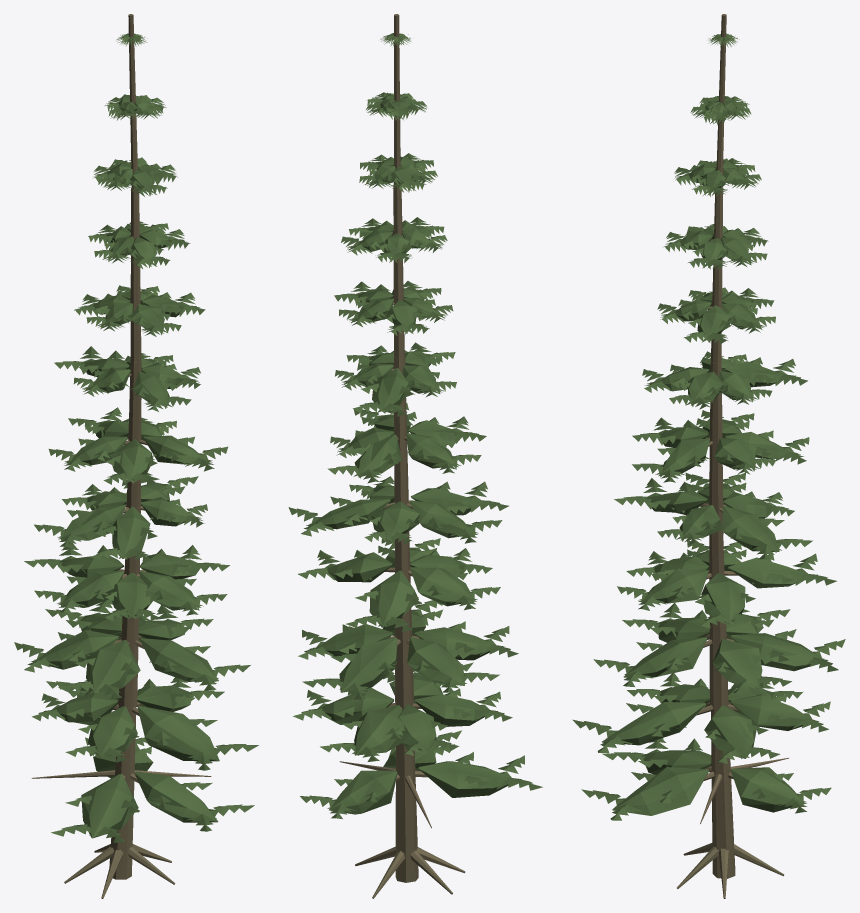
Rendered from taiga-spruce.glb.
3 renders of one model, left to right at view 1: azimuth 30°, elevation 25°; view 2: azimuth 150°, elevation 25°; view 3: azimuth 270°, elevation 25°, orthographic.
Parts seen in each view (by area): view 1: Ель обыкновенная · Picea abies; view 2: Ель обыкновенная · Picea abies; view 3: Ель обыкновенная · Picea abies.
Boxes of the visible parts, left/top/right/bottom form: Ель обыкновенная · Picea abies: left=14, top=14, right=258, bottom=898; Ель обыкновенная · Picea abies: left=288, top=14, right=542, bottom=898; Ель обыкновенная · Picea abies: left=572, top=14, right=845, bottom=898.
Size of the model in its own units: 7 by 28.02 by 8.04.
